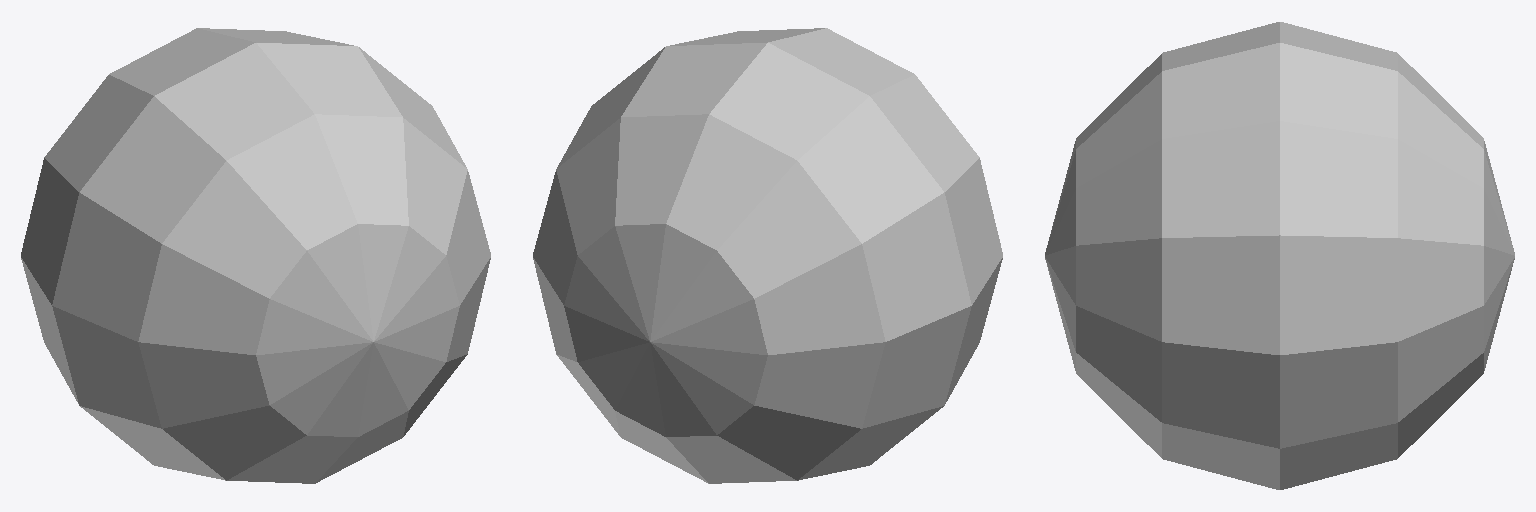
File: cluster.obj
3 views of the same model, side by side, from view 1: azimuth 30°, elevation 25°; view 2: azimuth 150°, elevation 25°; view 3: azimuth 270°, elevation 25° (orthographic).
Parts seen in each view (by area): view 1: Sphere01; view 2: Sphere01; view 3: Sphere01.
Boxes of the visible parts, x1,y1,x2,y2 form: Sphere01: [21, 28, 490, 483]; Sphere01: [533, 28, 1002, 483]; Sphere01: [1045, 22, 1514, 489].
Size of the model in its own units: 6.82 by 6.82 by 6.82.